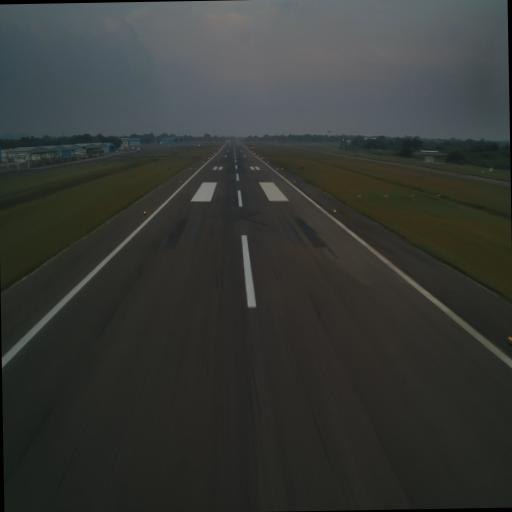on: (504, 331, 512, 345), (332, 208, 336, 214), (179, 178, 182, 184), (144, 208, 146, 214), (294, 178, 296, 184)
